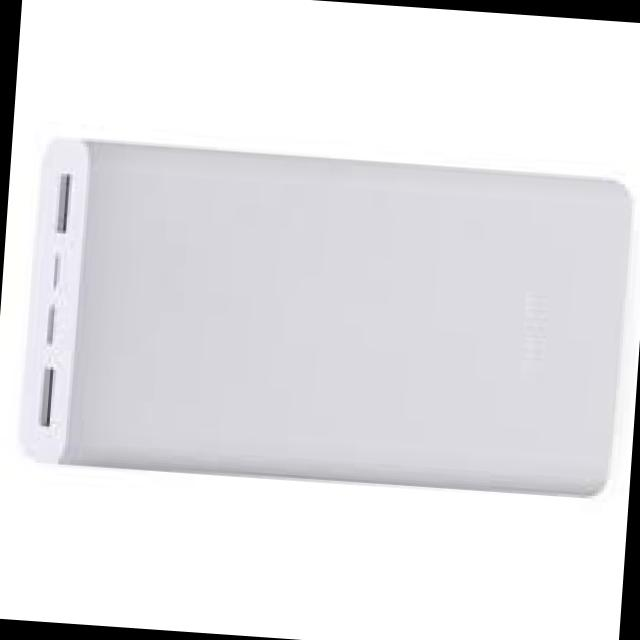power_bank: (16, 130, 636, 502)
